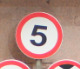speed_limit_5: (16, 12, 63, 58)
